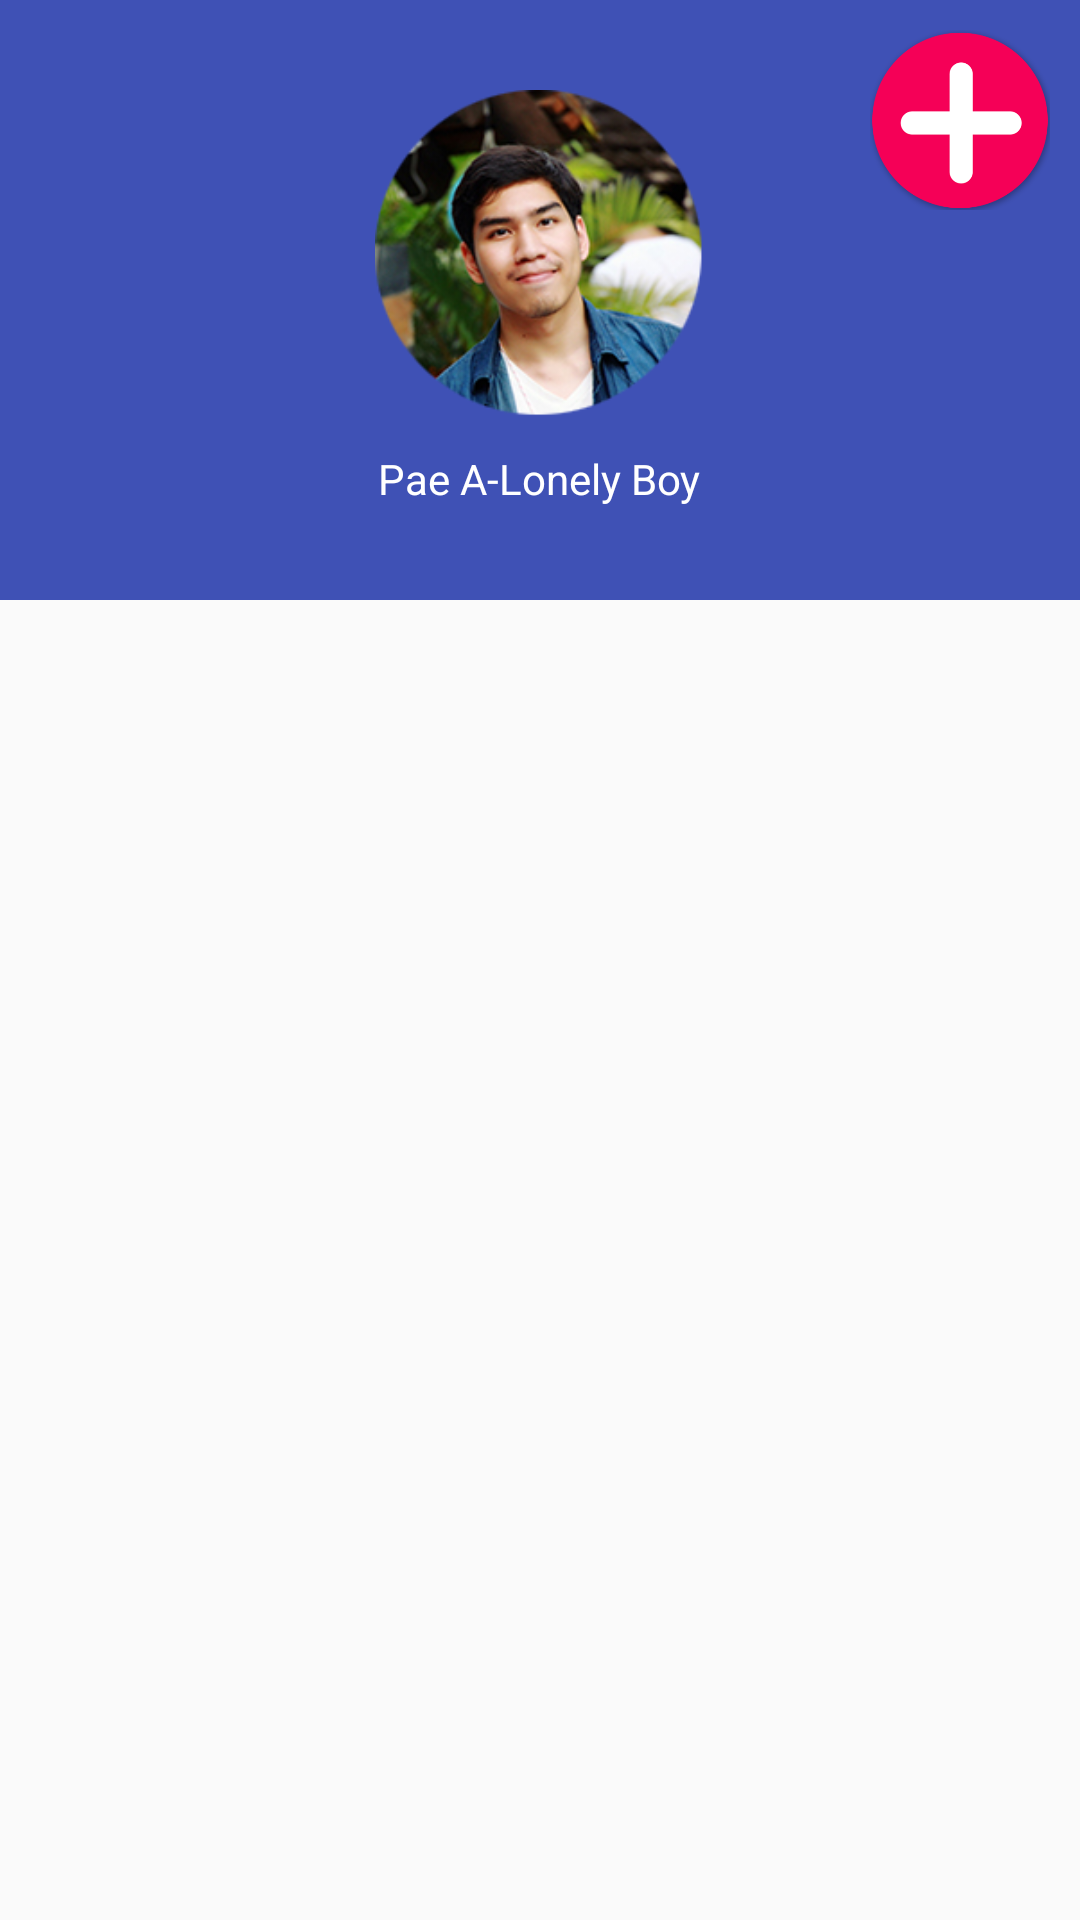

Screen size 1080 × 1920. Icon name, then its center in pixels as (x=x, y=y):
profile pic: (x=538, y=252)
